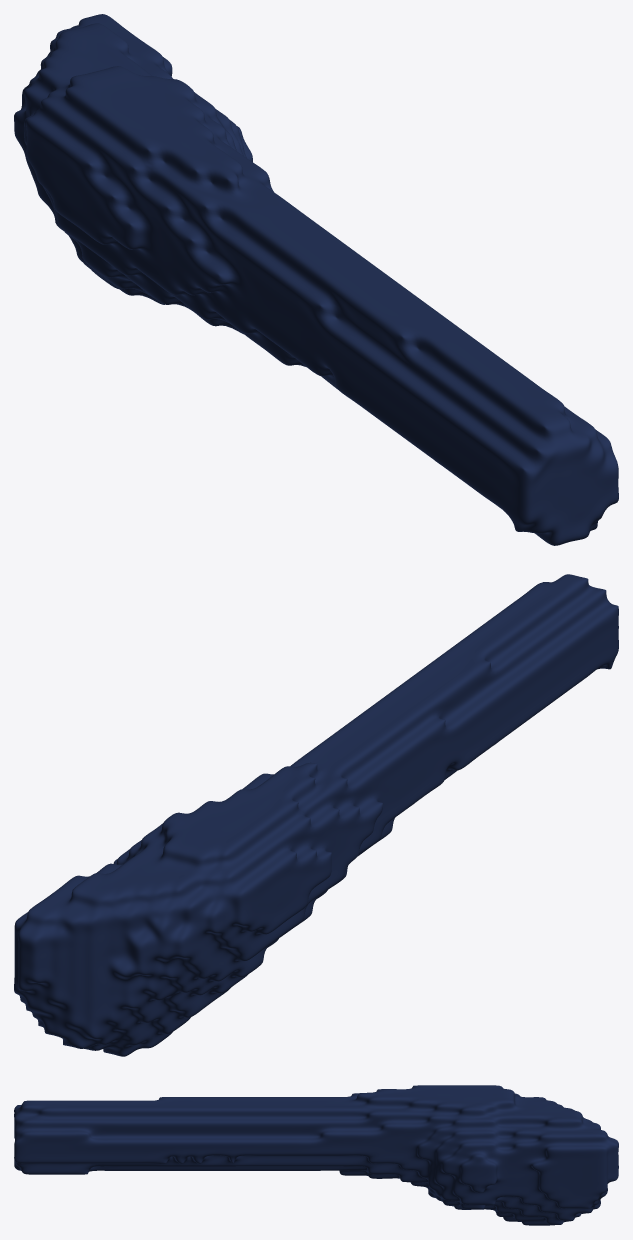
The model's file is fibula.obj.
3 renders of one model, top to bottom at view 1: azimuth 30°, elevation 25°; view 2: azimuth 150°, elevation 25°; view 3: azimuth 270°, elevation 25°, orthographic. The views are drawn at different scales.
Parts seen in each view (by area): view 1: grp1; view 2: grp1; view 3: grp1.
Part boxes in pixels (left/top/right/bottom): grp1: left=14, top=14, right=618, bottom=545; grp1: left=14, top=574, right=618, bottom=1056; grp1: left=14, top=1085, right=618, bottom=1225.
Bounding box in the file's own units: 19.73 × 22.79 × 106.
